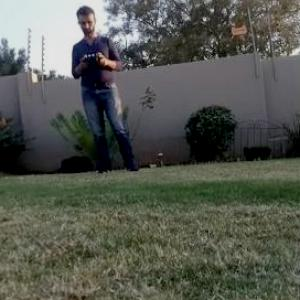follow: (67, 0, 146, 179)
